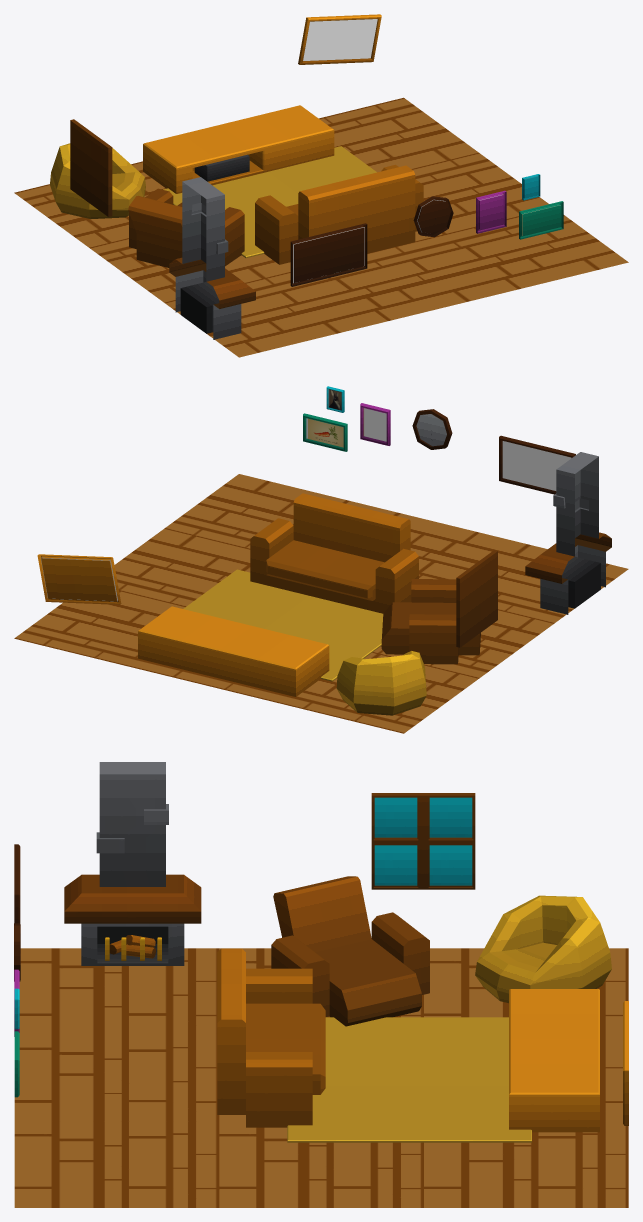
The model's file is s1_Living_v1.fbx.
The picture shows the model from 3 angles, top to bottom: view 1: azimuth 30°, elevation 25°; view 2: azimuth 150°, elevation 25°; view 3: azimuth 270°, elevation 25°; orthographic projection. The views are drawn at different scales.
Visible parts, largest first — view 1: s1_Living_v1; view 2: s1_Living_v1; view 3: s1_Living_v1.
Part boxes in pixels (bbox=[...]): s1_Living_v1: bbox=[14, 14, 628, 357]; s1_Living_v1: bbox=[14, 386, 628, 733]; s1_Living_v1: bbox=[14, 762, 628, 1207].
Size of the model in its own units: 905 by 300 by 901.
